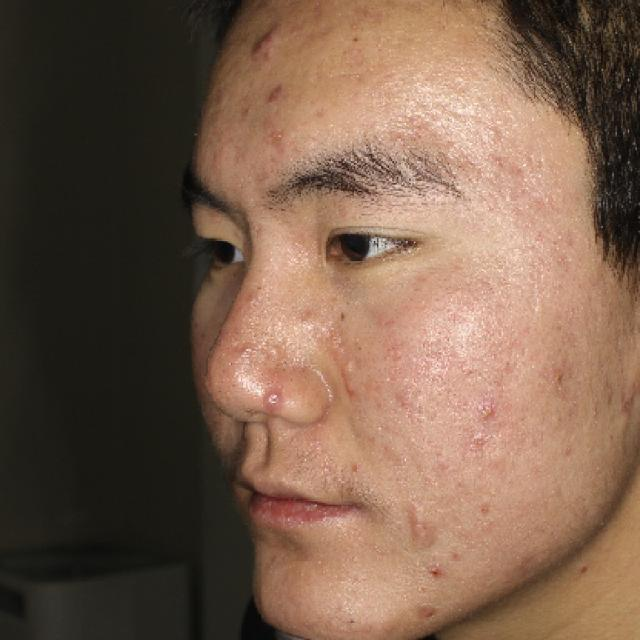Acne: (392, 490, 445, 544), (243, 20, 296, 70), (256, 72, 298, 112), (470, 394, 512, 426), (332, 376, 376, 404), (260, 381, 289, 417)
Blackheads: (341, 23, 374, 52), (329, 304, 360, 330), (571, 554, 597, 583), (423, 560, 448, 588)
Whiteheads: (263, 336, 289, 364), (244, 287, 265, 312)
